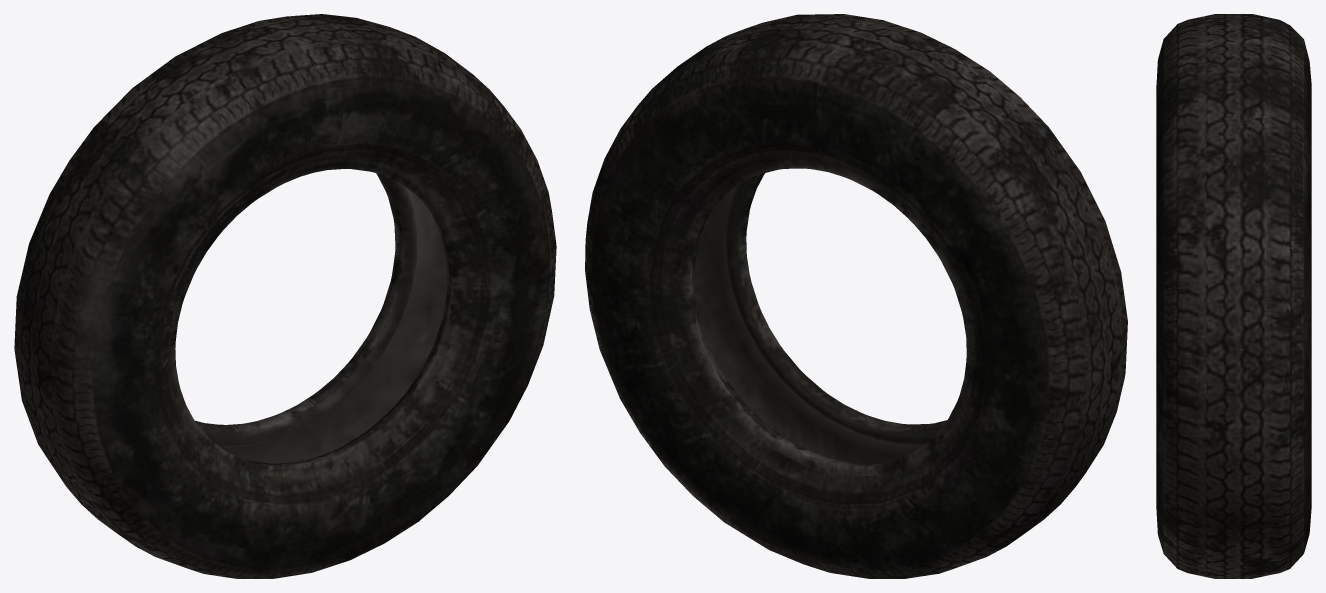
The model's file is tyre.glb.
3 views of the same model, side by side, from view 1: azimuth 30°, elevation 25°; view 2: azimuth 150°, elevation 25°; view 3: azimuth 270°, elevation 25° (orthographic). The views are drawn at different scales.
Parts seen in each view (by area): view 1: tyre; view 2: tyre; view 3: tyre.
Boxes of the visible parts, <box> form: tyre: <box>14,14,556,578</box>; tyre: <box>585,14,1127,578</box>; tyre: <box>1156,14,1311,578</box>.
Size of the model in its own units: 0.6002 by 0.6 by 0.1651.
1 material, 1 textured.
